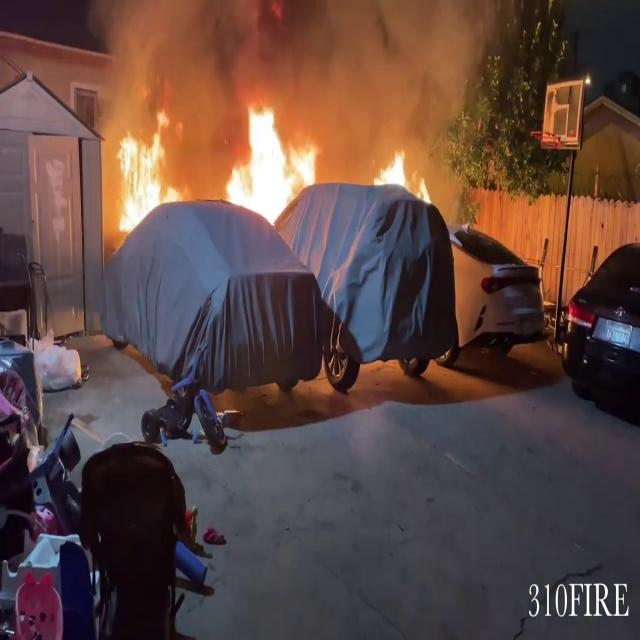Fire: (220, 97, 324, 225), (109, 111, 180, 235), (376, 144, 430, 206)
Smoke: (87, 0, 511, 133)
